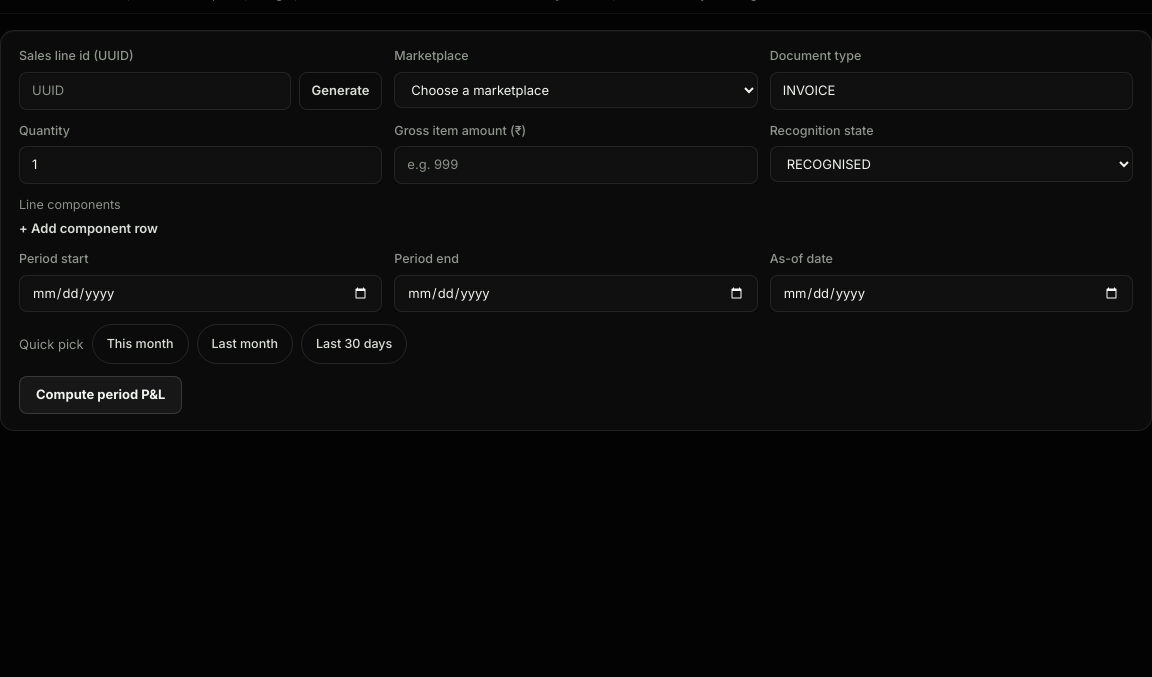
Test: Period P&L advertising line (ST-01) › shows ₹0.00 for an explicit zero entry
The image size is (1152, 677).
Select "Amazon" in the dropdown labelled "Marketplace" at (576, 90), box left=394, top=72, right=758, bottom=108
Type "999" into the field labelled "Gross item amount (₹)" at (576, 165), box left=394, top=146, right=758, bottom=184
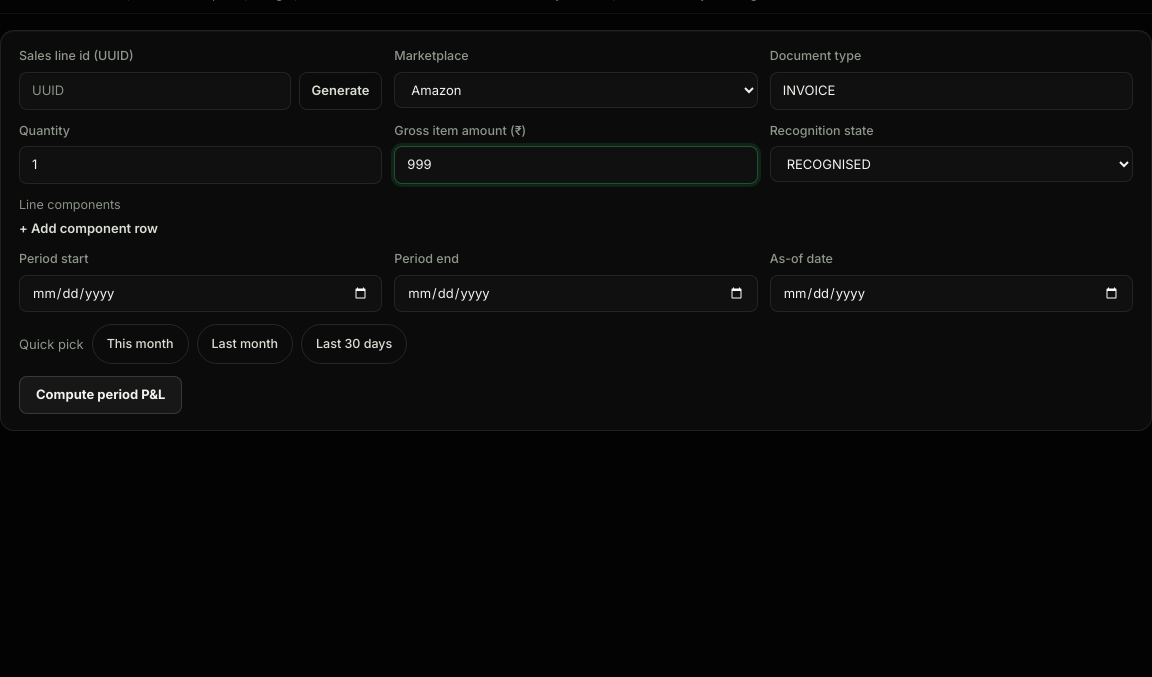
Type "7c1d3e50-0000-4000-8000-000000000003" into the field labelled "Sales line id (UUID)" at (155, 91), box left=19, top=72, right=291, bottom=110
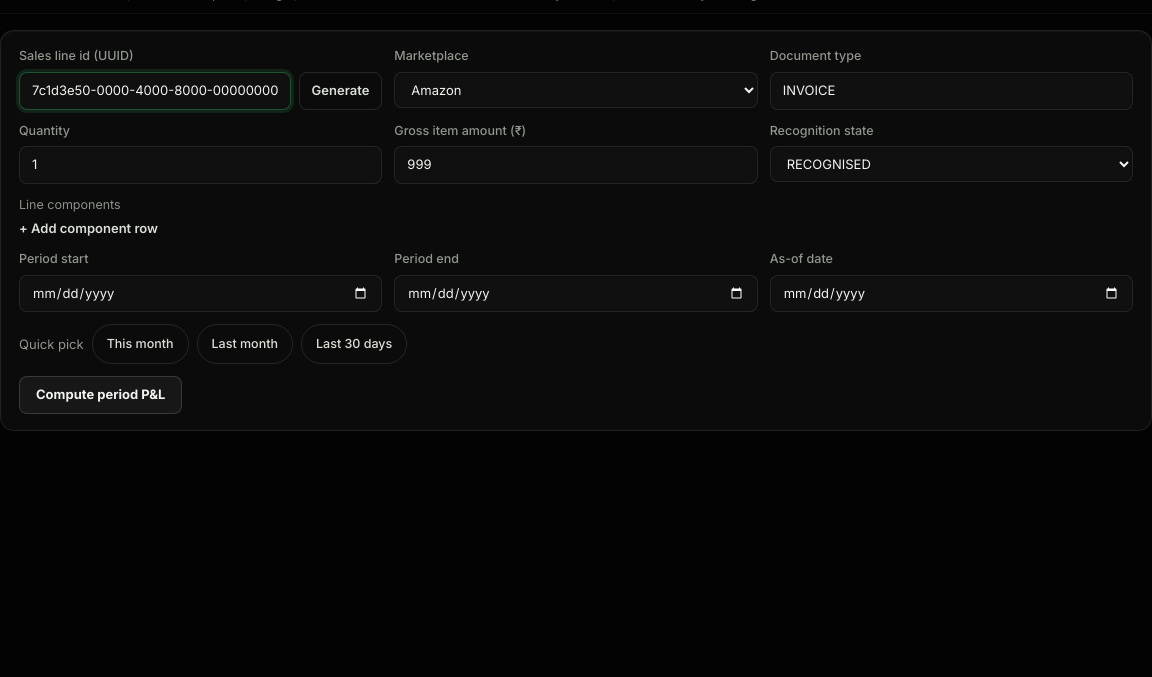
Type "2026-09-01" into the date field labelled "Period start" at (201, 294), box left=19, top=275, right=382, bottom=312
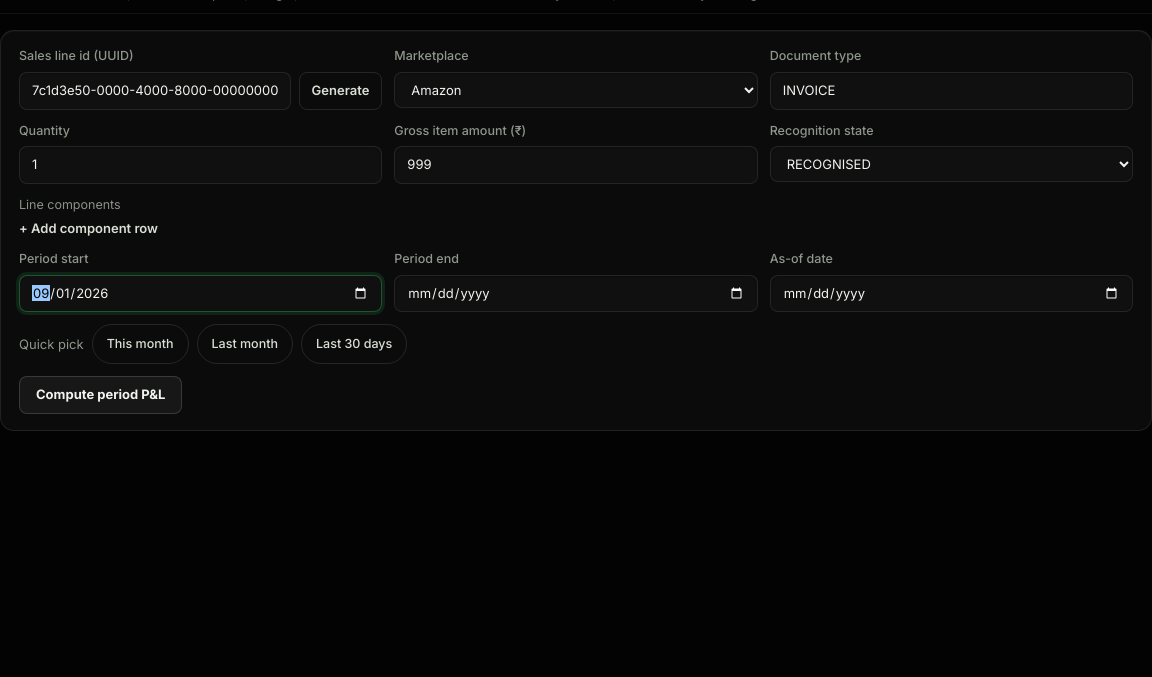
Type "2026-09-30" into the date field labelled "Period end" at (576, 294), box left=394, top=275, right=758, bottom=312
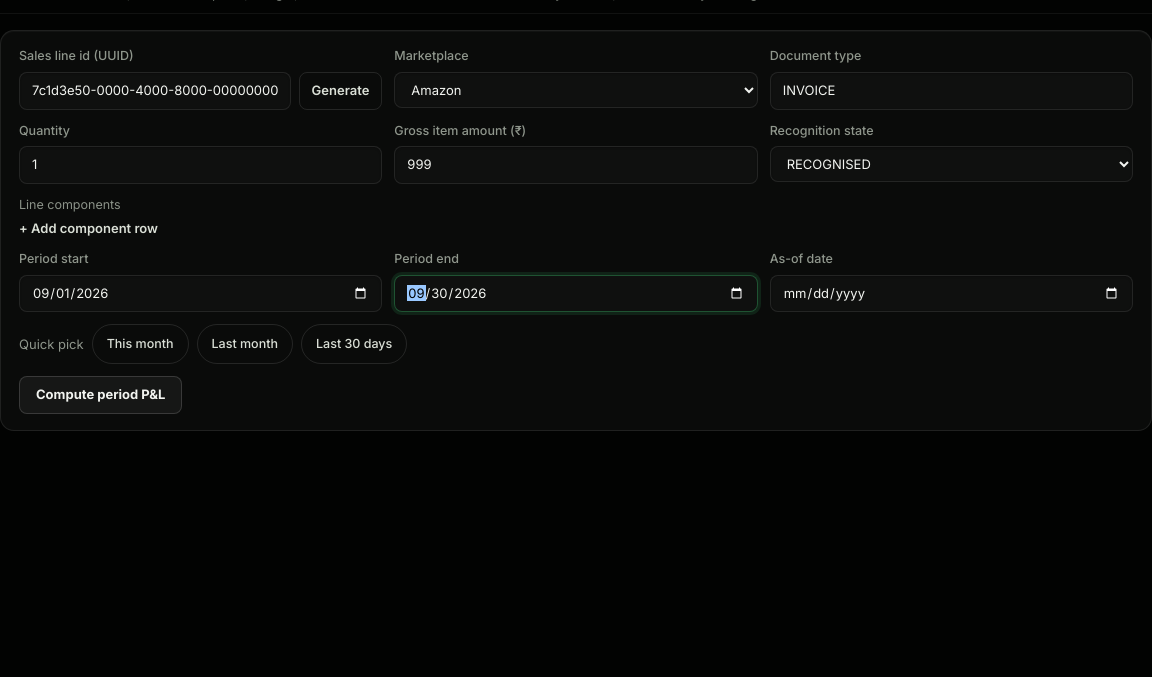
Type "2026-09-30" into the date field labelled "As-of date" at (951, 294), box left=770, top=275, right=1133, bottom=312
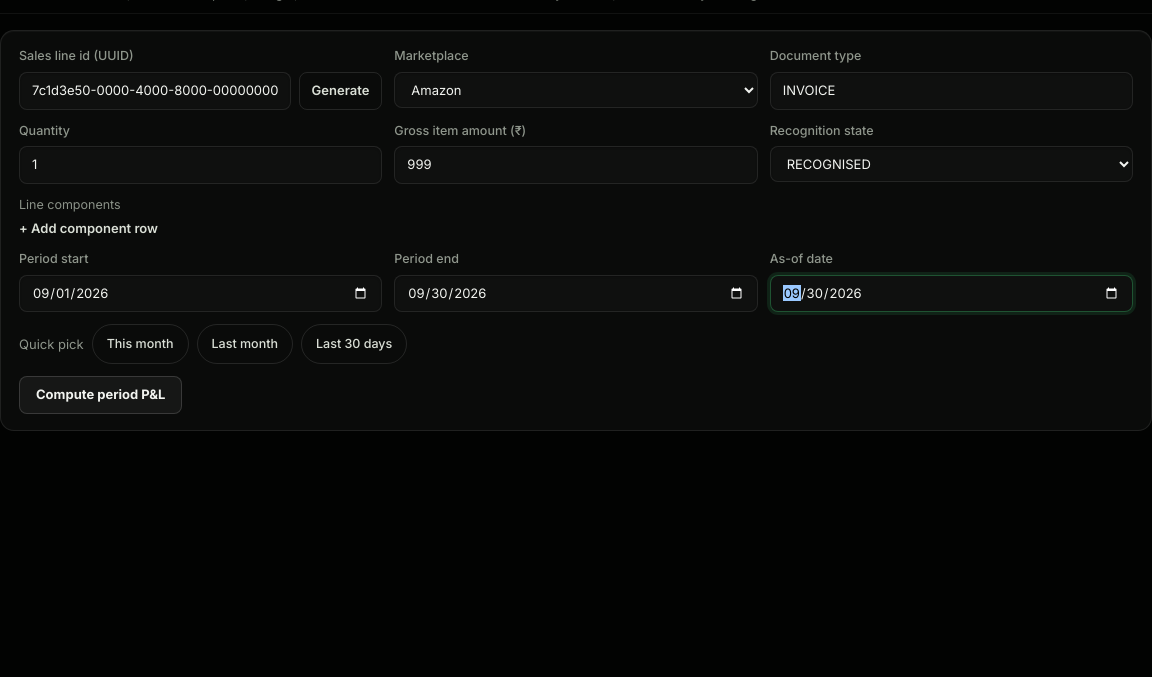
Click the button "Compute period P&L" at (101, 395), box left=19, top=376, right=182, bottom=414
(page scrolled)
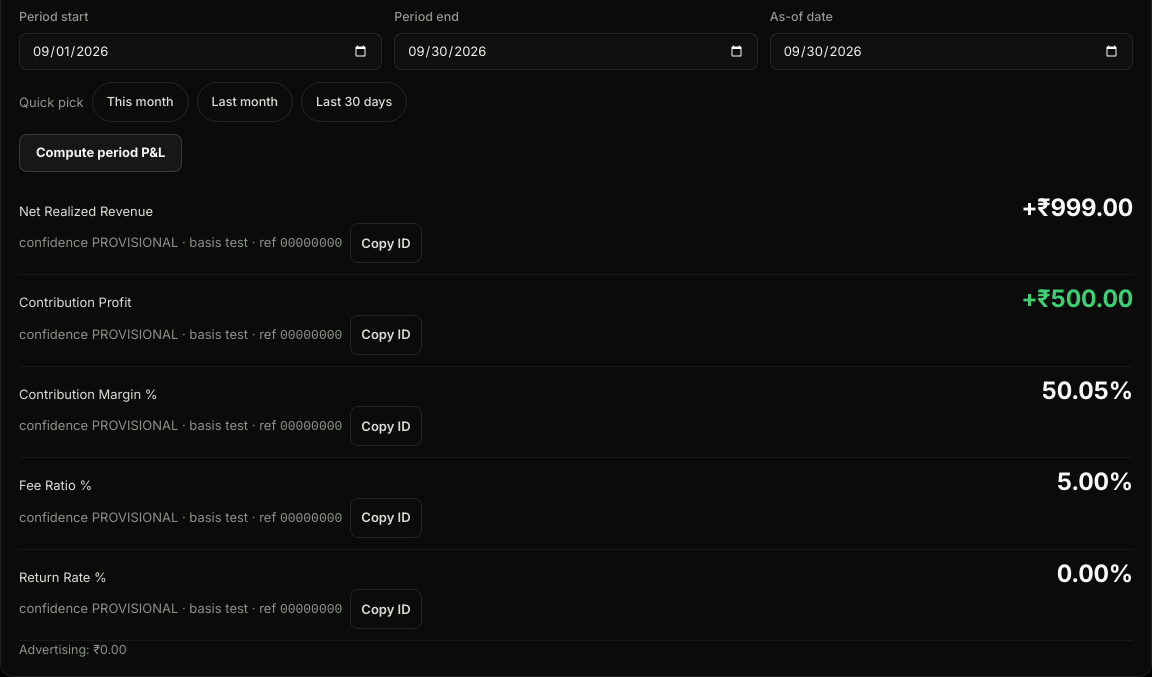
Expected: the text with test id "pnl-advertising" does not show "Not entered", left=19, top=642, right=127, bottom=657
Expected: the text "Contribution Profit" is shown, left=19, top=294, right=132, bottom=310
Expected: the text with test id "pnl-advertising" reads "Advertising: ₹0.00", left=19, top=642, right=127, bottom=657
